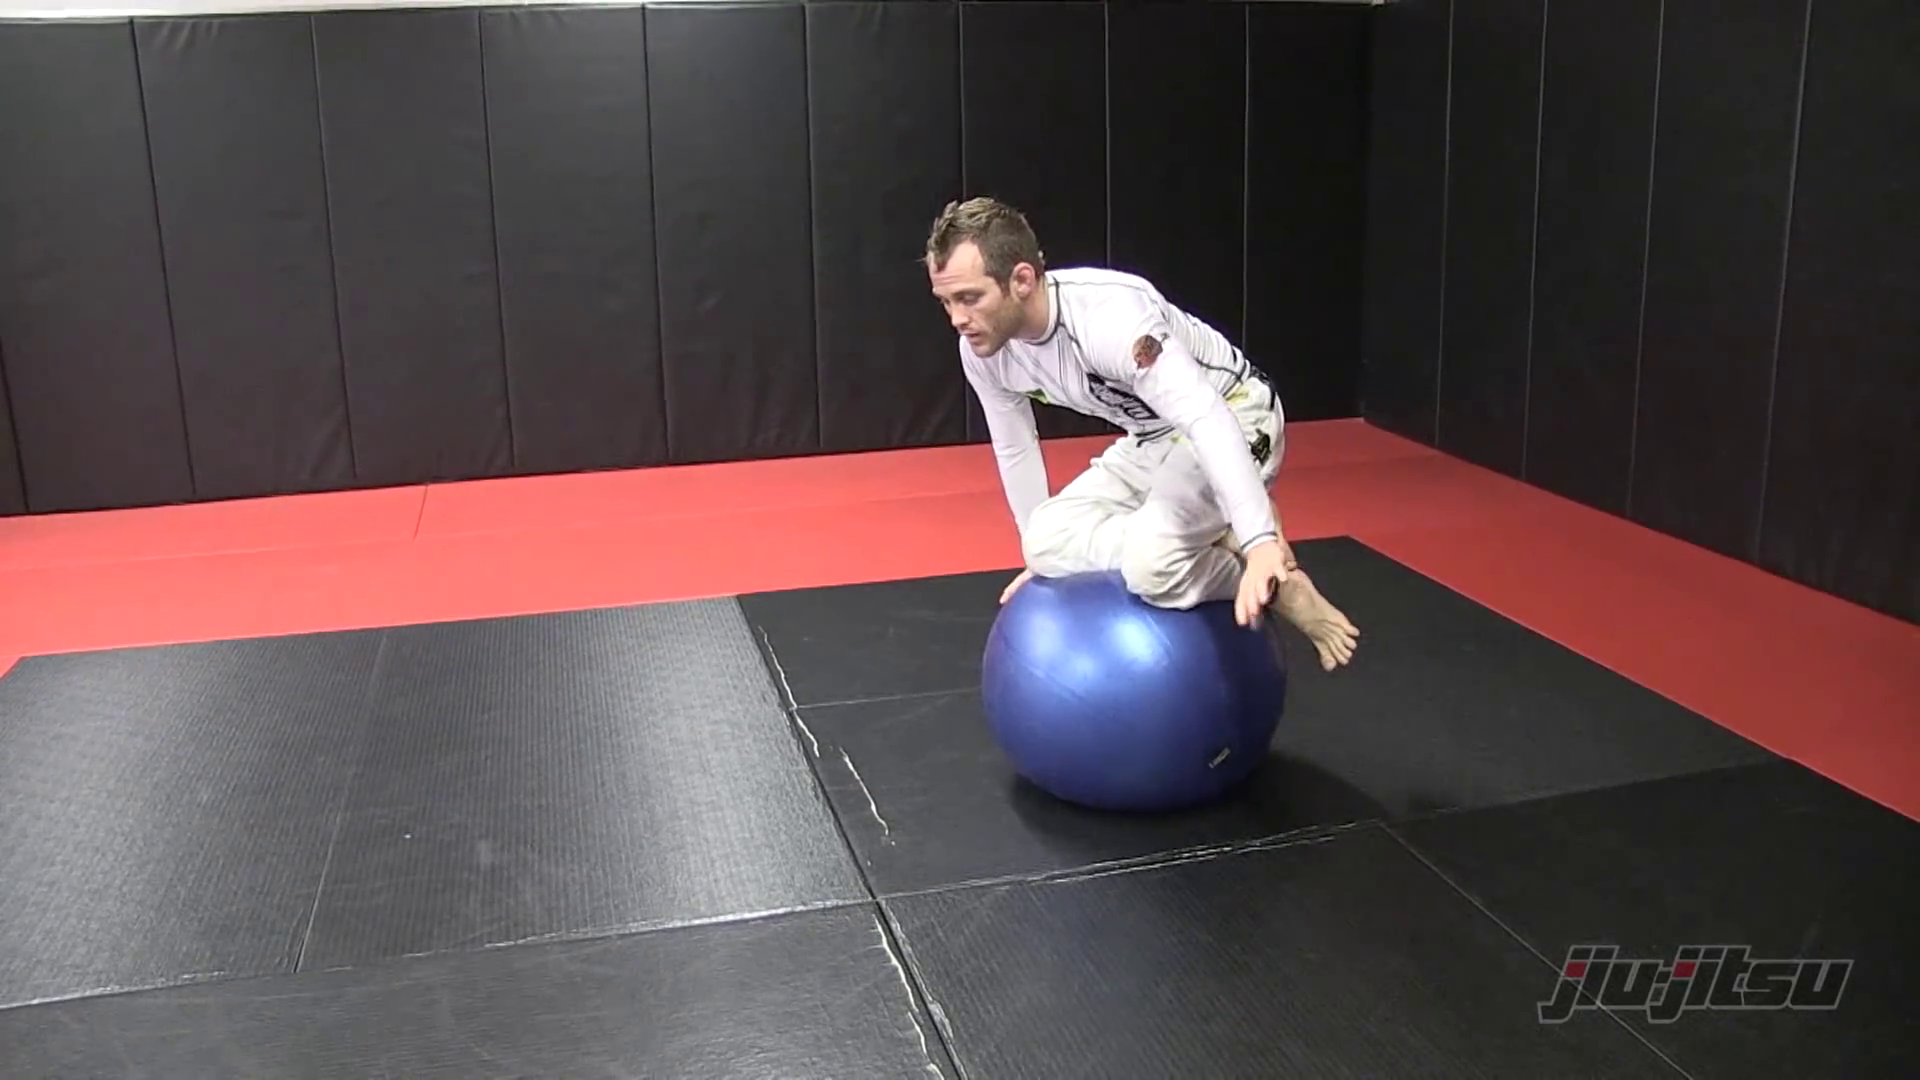yogaball: (960, 549, 1303, 829)
